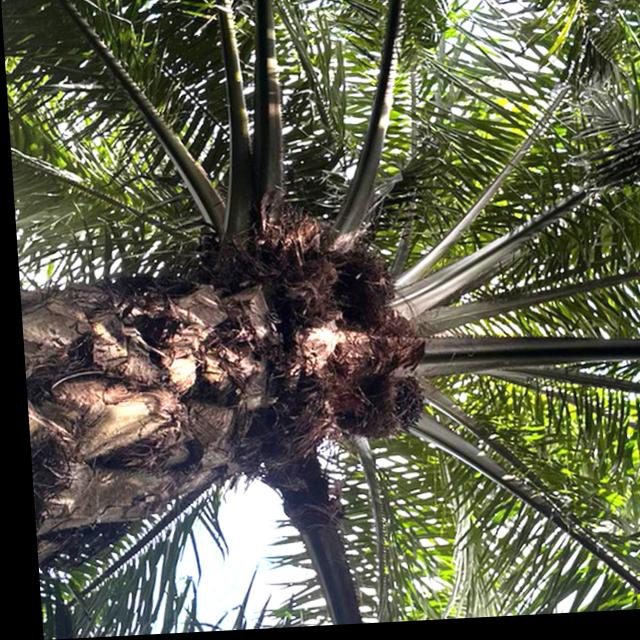unripe: (324, 366, 426, 450)
